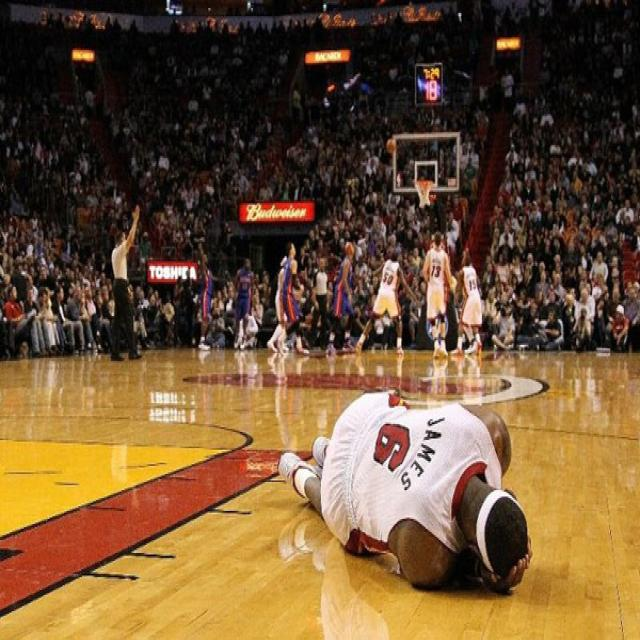10-: (0, 3, 639, 374)
down: (276, 378, 534, 602)
